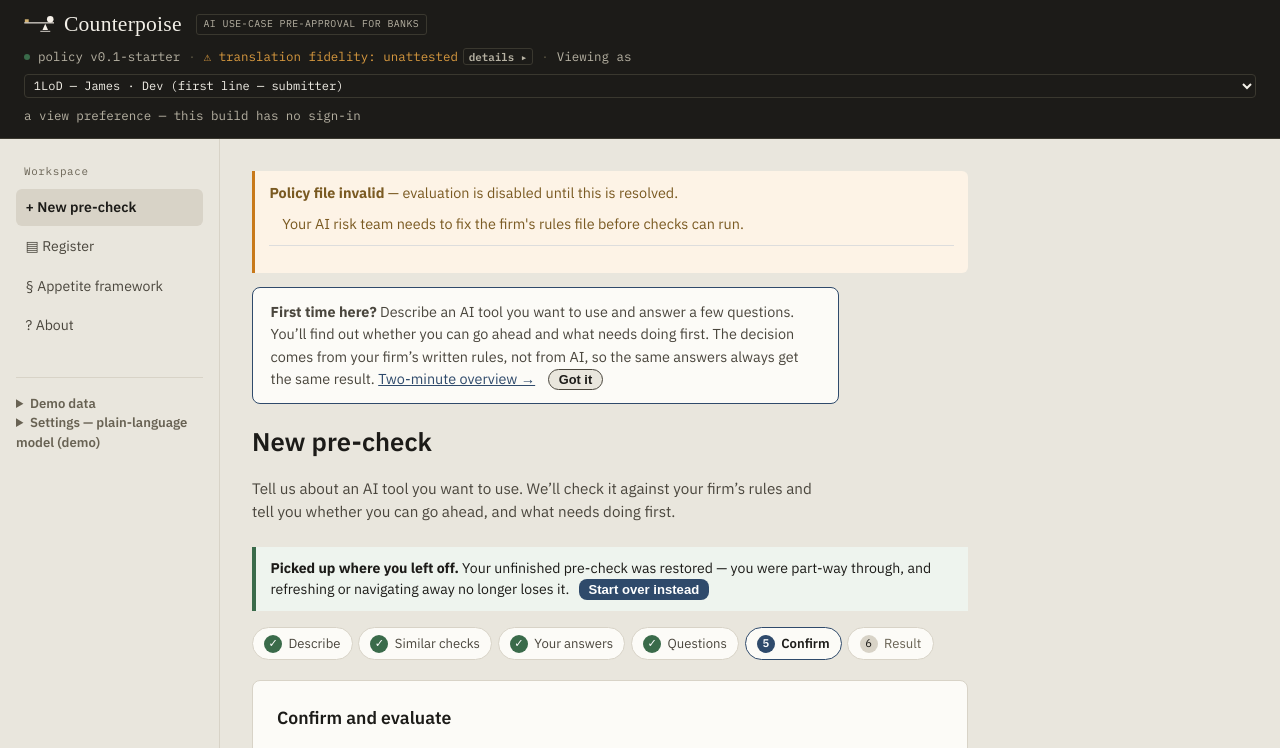
Test case: F-3 (DR7-05): "Start over" before Confirm strands nothing › TC-R16-F-25: Start over after Continue but before Confirm leaves no event on the trail
Click the button "Start over instead".
click(644, 590)  # box [579,579,709,600]
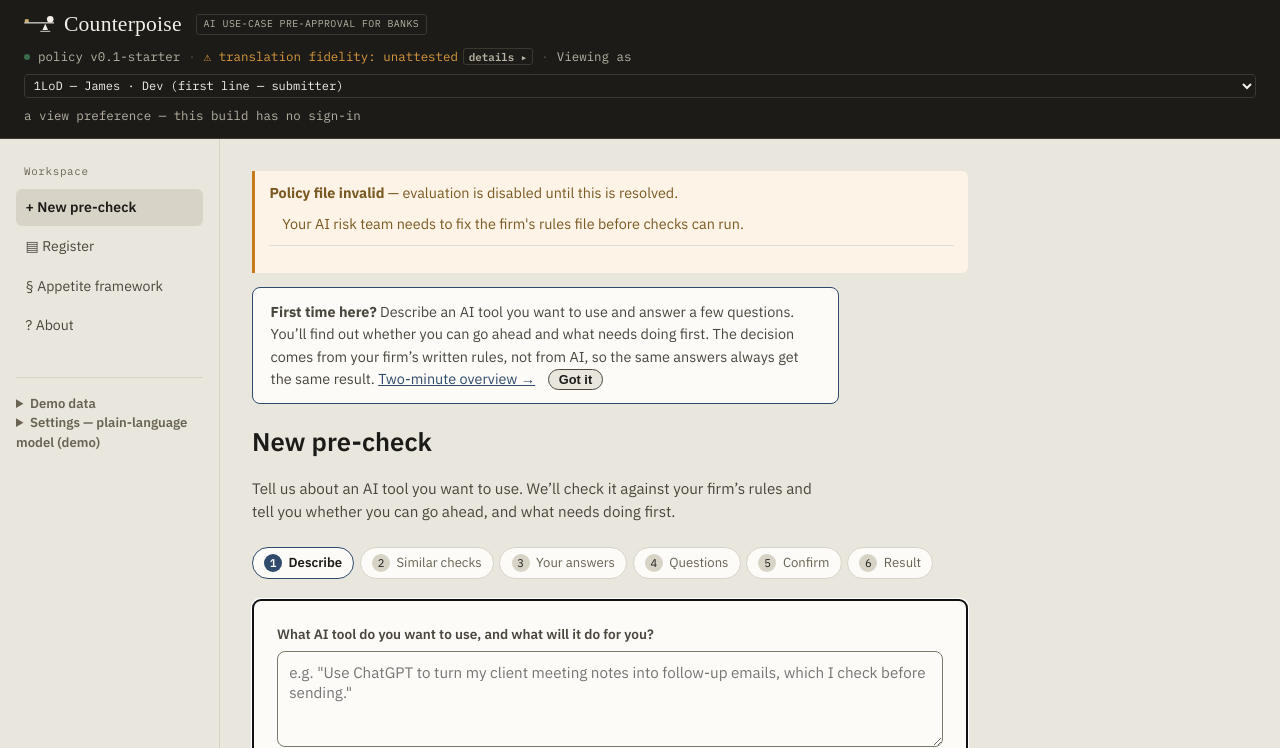
expect the text "What AI tool do you want to use" is shown: met, box [277,625,654,643]
